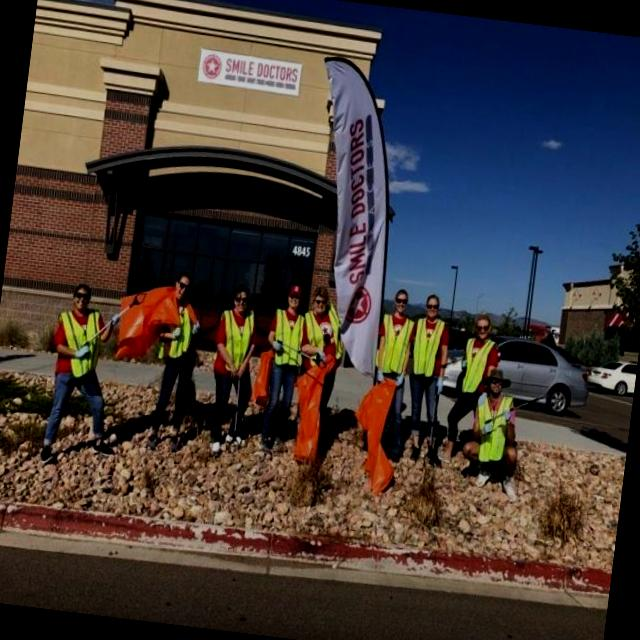vest: (464, 379, 514, 475), (374, 310, 431, 376), (60, 306, 103, 376), (281, 305, 333, 360), (404, 319, 443, 378), (218, 306, 254, 364), (162, 318, 194, 364)
